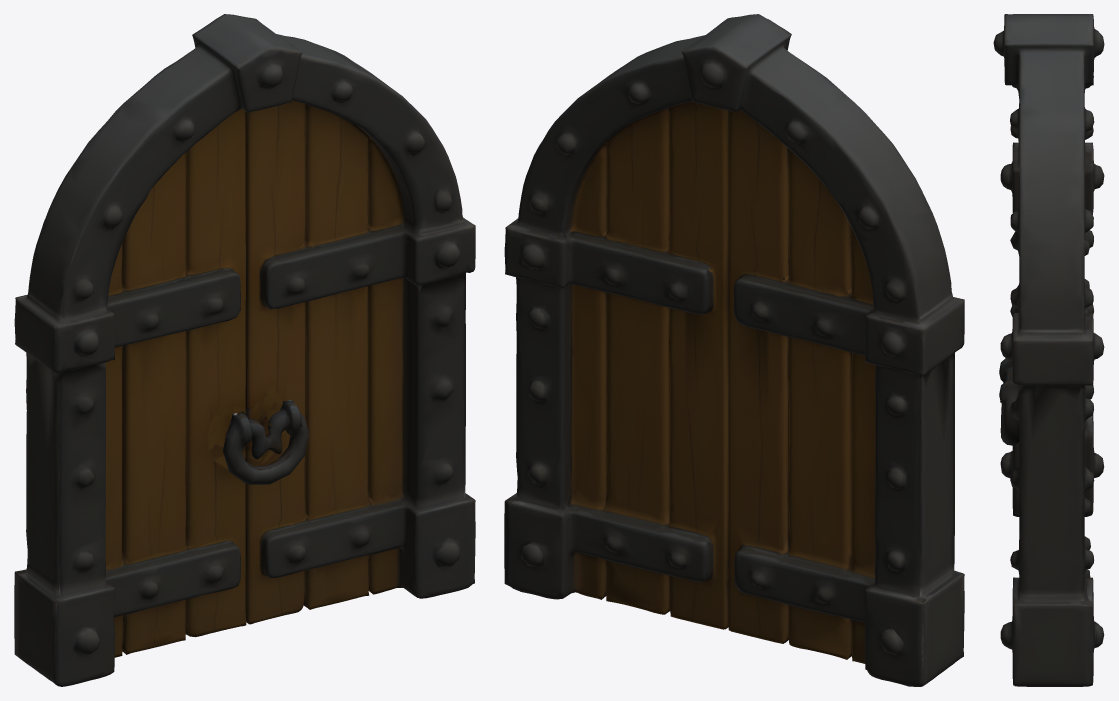
File: Portão Leve.glb
3 views of the same model, side by side, from view 1: azimuth 30°, elevation 25°; view 2: azimuth 150°, elevation 25°; view 3: azimuth 270°, elevation 25° (orthographic). The views are drawn at different scales.
Parts seen in each view (by area): view 1: model; view 2: model; view 3: model.
Part boxes in pixels (bbox=[...]): model: bbox=[14, 14, 475, 686]; model: bbox=[504, 14, 964, 686]; model: bbox=[993, 14, 1104, 686].
Size of the model in its own units: 1.41 by 1.9 by 0.3328.
1 material, 1 textured.
